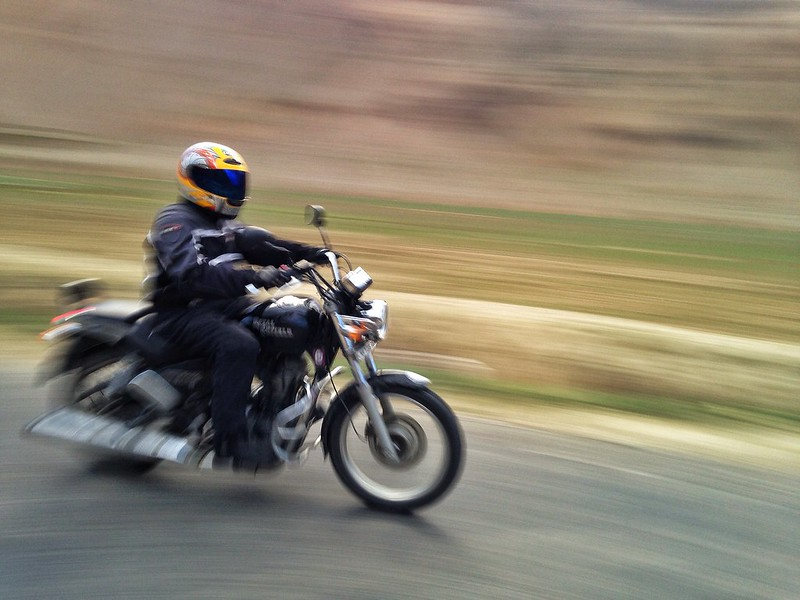helmet: (173, 126, 246, 215)
